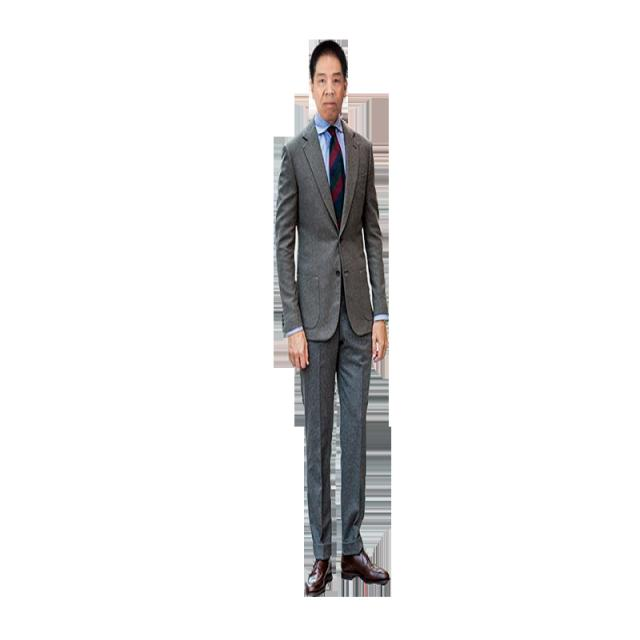jovem: (266, 39, 405, 598)
